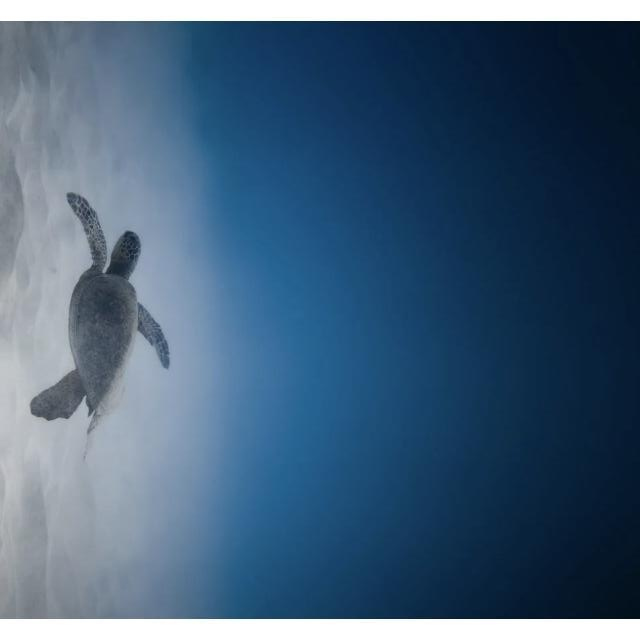turtle: (29, 190, 171, 466)
